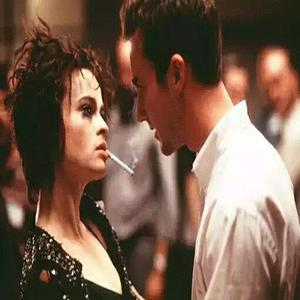cigarette: (106, 151, 139, 178)
